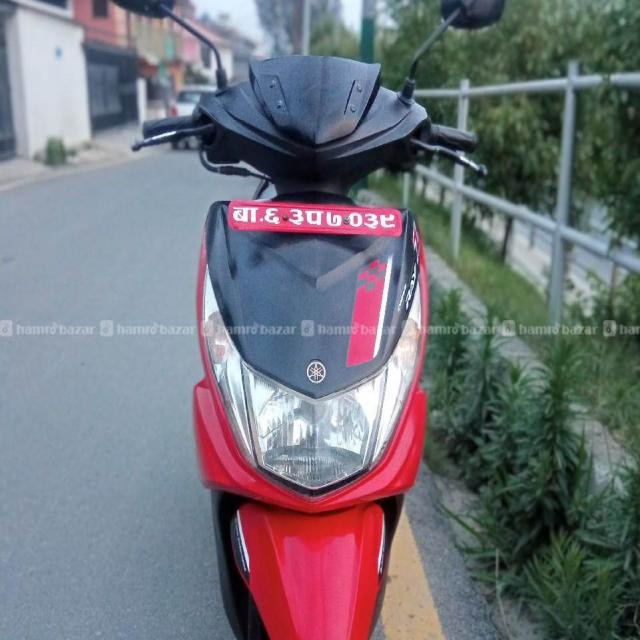License-plate: (230, 197, 404, 238)
